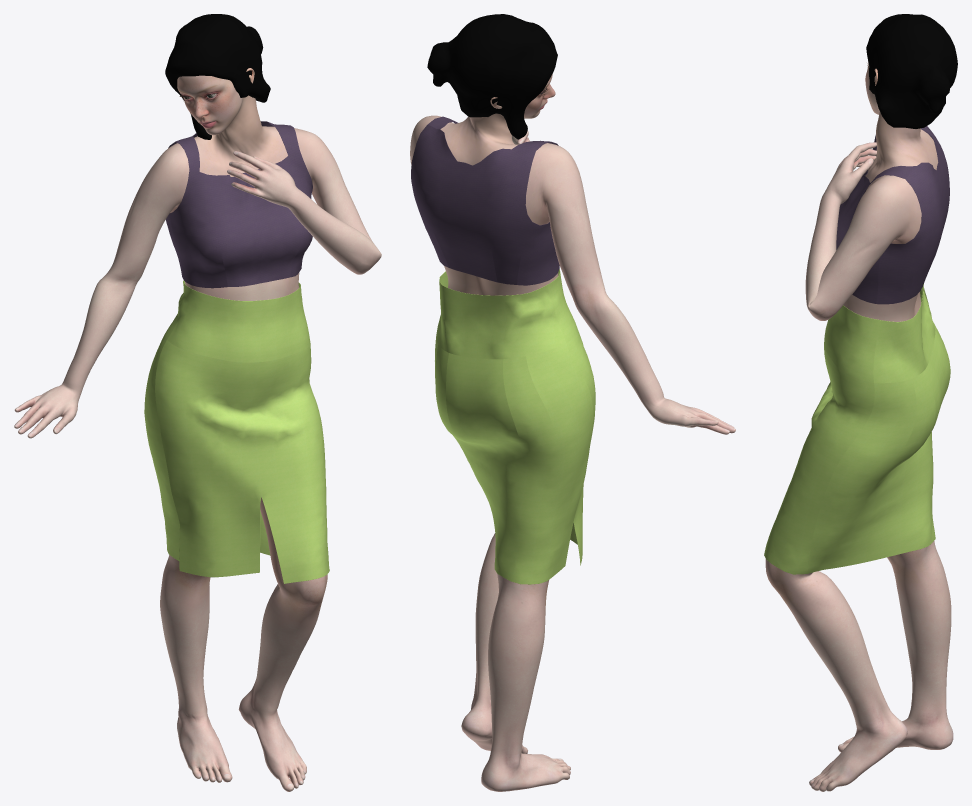
Rendered from Dynamic_2.obj.
3 renders of one model, left to right at view 1: azimuth 30°, elevation 25°; view 2: azimuth 150°, elevation 25°; view 3: azimuth 270°, elevation 25°, orthographic. The views are drawn at different scales.
Bounding box in the file's own units: 813 × 1767 × 411.
